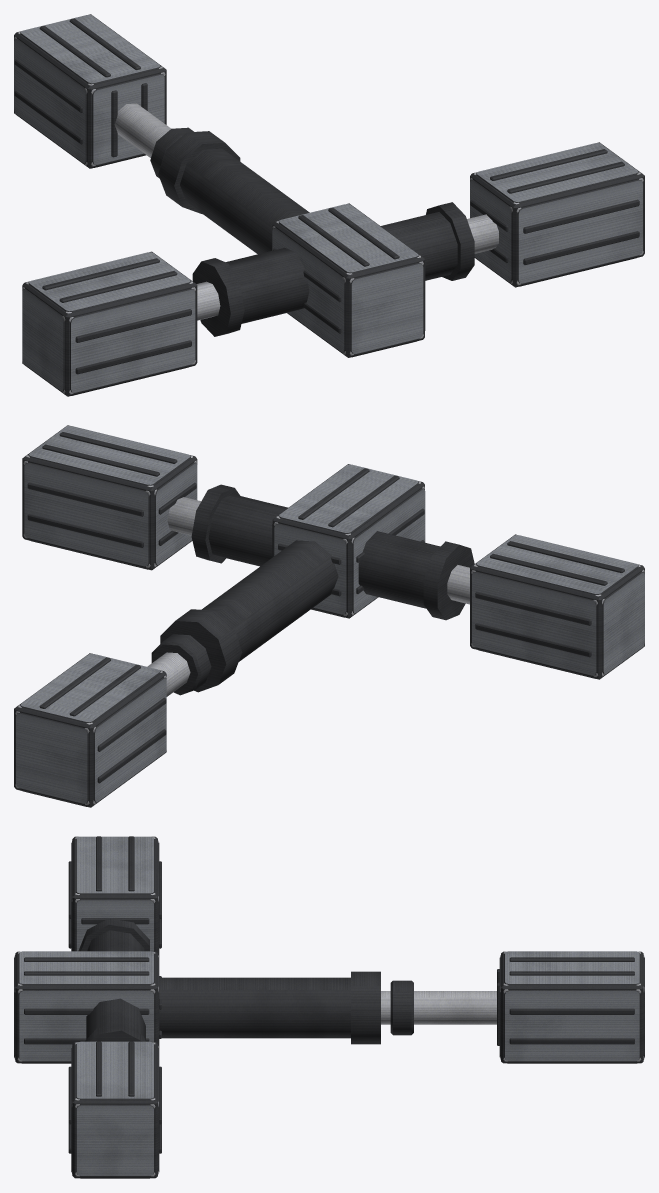
Rendered from R4C_ROD_T.glb.
The picture shows the model from 3 angles, top to bottom: view 1: azimuth 30°, elevation 25°; view 2: azimuth 150°, elevation 25°; view 3: azimuth 270°, elevation 25°; orthographic projection. The views are drawn at different scales.
Parts seen in each view (by area): view 1: R4C_ROD_T; view 2: R4C_ROD_T; view 3: R4C_ROD_T.
Part boxes in pixels (x1,y1,x2,y2): R4C_ROD_T: [14, 14, 644, 396]; R4C_ROD_T: [14, 425, 644, 807]; R4C_ROD_T: [14, 836, 644, 1178].
Bounding box in the file's own units: 1.62 × 0.233 × 1.62.
4 materials, 4 textured.
